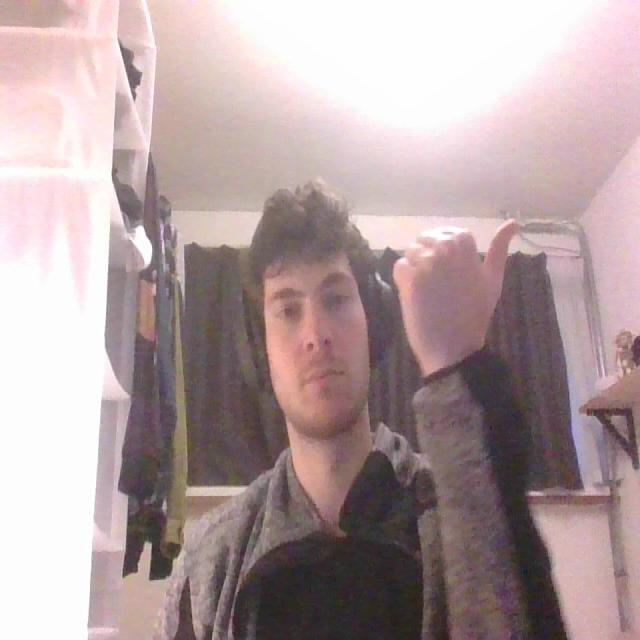right: (394, 210, 524, 373)
